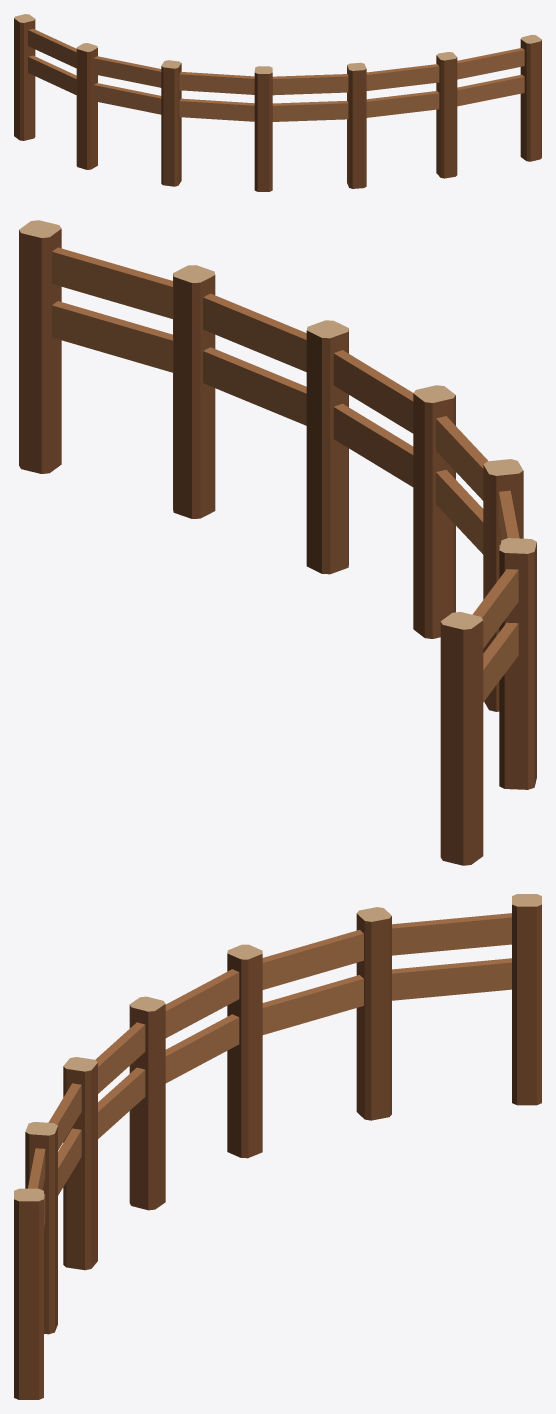
File: Prop_Decorative_Fence_Curve_3x4.obj
3 views of the same model, one above another, from view 1: azimuth 30°, elevation 25°; view 2: azimuth 150°, elevation 25°; view 3: azimuth 270°, elevation 25° (orthographic). The views are drawn at different scales.
Visible parts, largest first — view 1: Fence_Post_Side, Fence_Rail, Fence_Post_Top; view 2: Fence_Post_Side, Fence_Rail, Fence_Post_Top; view 3: Fence_Post_Side, Fence_Rail, Fence_Post_Top.
Boxes of the visible parts, x1,y1,x2,y2 form: Fence_Post_Side: [14, 18, 541, 191]; Fence_Rail: [28, 28, 524, 121]; Fence_Post_Top: [14, 14, 541, 73]; Fence_Post_Side: [19, 229, 536, 865]; Fence_Rail: [52, 247, 519, 701]; Fence_Post_Top: [19, 220, 536, 629]; Fence_Post_Side: [14, 904, 541, 1399]; Fence_Rail: [28, 913, 511, 1227]; Fence_Post_Top: [14, 894, 541, 1201].
Size of the model in its own units: 3.65 by 1.1 by 2.65.
